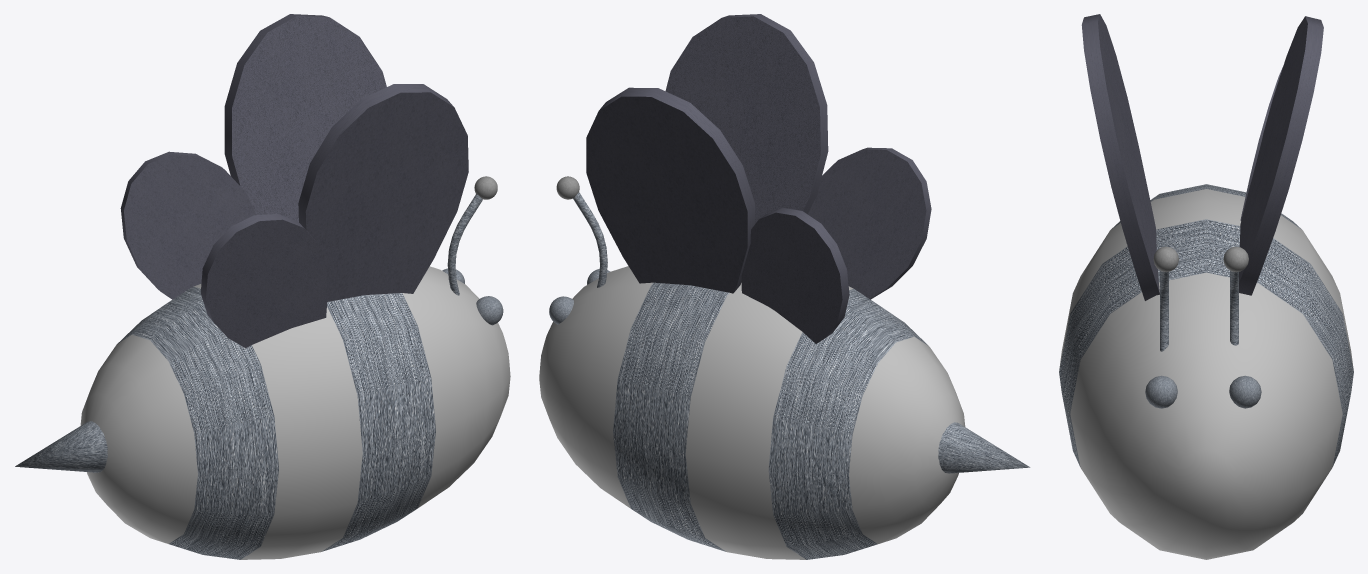
Rendered from bee.fbx.
3 views of the same model, side by side, from view 1: azimuth 30°, elevation 25°; view 2: azimuth 150°, elevation 25°; view 3: azimuth 270°, elevation 25° (orthographic). The views are drawn at different scales.
Visible parts, largest first — view 1: pSphere1, pCylinder1, pCylinder2, pCylinder3, pCylinder4, pCone1, pCylinder5; view 2: pSphere1, pCylinder2, pCylinder1, pCylinder3, pCylinder4, pCone1, pCylinder5; view 3: pSphere1, pCylinder2, pCylinder1, pCylinder5 (×2), pSphere4 (×2), pSphere3, pSphere2, pCylinder4.
Boxes of the visible parts, <box> form: pSphere1: <box>80,266,510,559</box>; pCylinder1: <box>298,84,468,301</box>; pCylinder2: <box>224,14,386,221</box>; pCylinder3: <box>200,214,327,348</box>; pCylinder4: <box>120,151,255,299</box>; pCone1: <box>15,421,107,472</box>; pCylinder5: <box>447,194,482,295</box>; pSphere1: <box>539,266,965,559</box>; pCylinder2: <box>586,87,754,293</box>; pCylinder1: <box>665,14,828,223</box>; pCylinder3: <box>807,147,931,299</box>; pCylinder4: <box>741,208,849,343</box>; pCone1: <box>938,422,1030,473</box>; pCylinder5: <box>573,192,607,287</box>; pSphere1: <box>1059,184,1353,559</box>; pCylinder2: <box>1239,16,1323,295</box>; pCylinder1: <box>1081,14,1159,300</box>; pCylinder5 (×2): <box>1160,270,1238,351</box>; pSphere4 (×2): <box>1153,246,1248,272</box>; pSphere3: <box>1145,375,1177,408</box>; pSphere2: <box>1229,375,1261,408</box>; pCylinder4: <box>1240,67,1282,220</box>.
Bounding box in the file's own units: 4.16 × 3.96 × 2.
